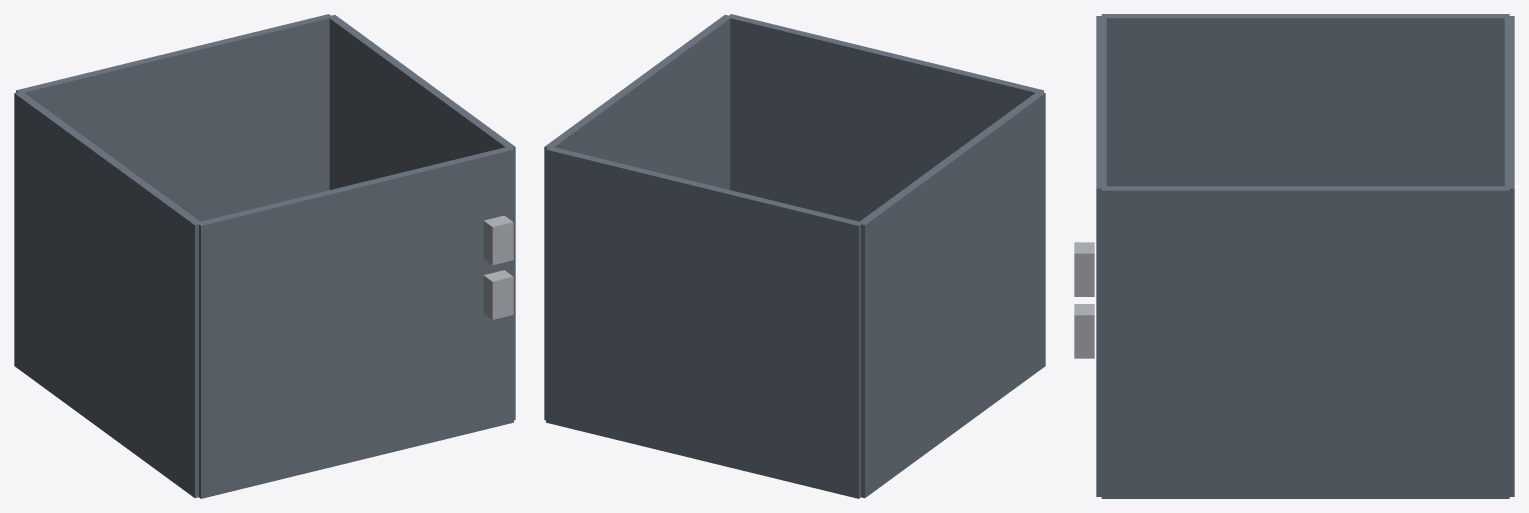
The picture shows the model from 3 angles, left to right: view 1: azimuth 30°, elevation 25°; view 2: azimuth 150°, elevation 25°; view 3: azimuth 270°, elevation 25°; orthographic projection. The views are drawn at different scales.
Parts seen in each view (by area): view 1: Guard panel body 2, Guard panel body 3, Guard panel body 1, Guard panel body 4, Door interlock body 2, Door interlock body 1; view 2: Guard panel body 1, Guard panel body 3, Guard panel body 2, Guard panel body 4; view 3: Guard panel body 4, Guard panel body 3, Guard panel body 1, Guard panel body 2, Door interlock body 1, Door interlock body 2.
Part boxes in pixels (x1,y1,x2,y2): Guard panel body 2: [197, 146, 513, 498]; Guard panel body 3: [14, 91, 201, 497]; Guard panel body 1: [16, 14, 332, 221]; Guard panel body 4: [329, 15, 515, 420]; Door interlock body 2: [483, 270, 513, 319]; Door interlock body 1: [483, 215, 513, 265]; Guard panel body 1: [546, 146, 862, 498]; Guard panel body 3: [858, 91, 1045, 497]; Guard panel body 2: [727, 14, 1043, 221]; Guard panel body 4: [544, 15, 731, 420]; Guard panel body 4: [1101, 186, 1509, 498]; Guard panel body 3: [1101, 14, 1509, 186]; Guard panel body 1: [1504, 16, 1514, 496]; Guard panel body 2: [1096, 16, 1106, 496]; Door interlock body 1: [1074, 242, 1094, 296]; Door interlock body 2: [1074, 304, 1094, 358].
Bounding box in the file's own units: 1.23 × 1 × 1.29.
